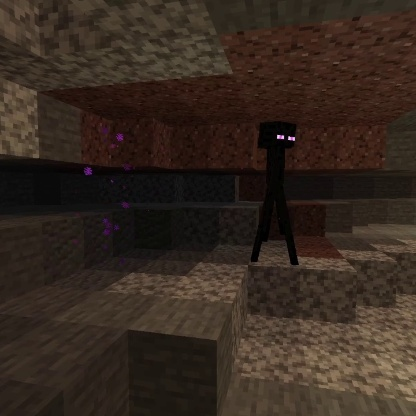enderman: (249, 120, 302, 268)
